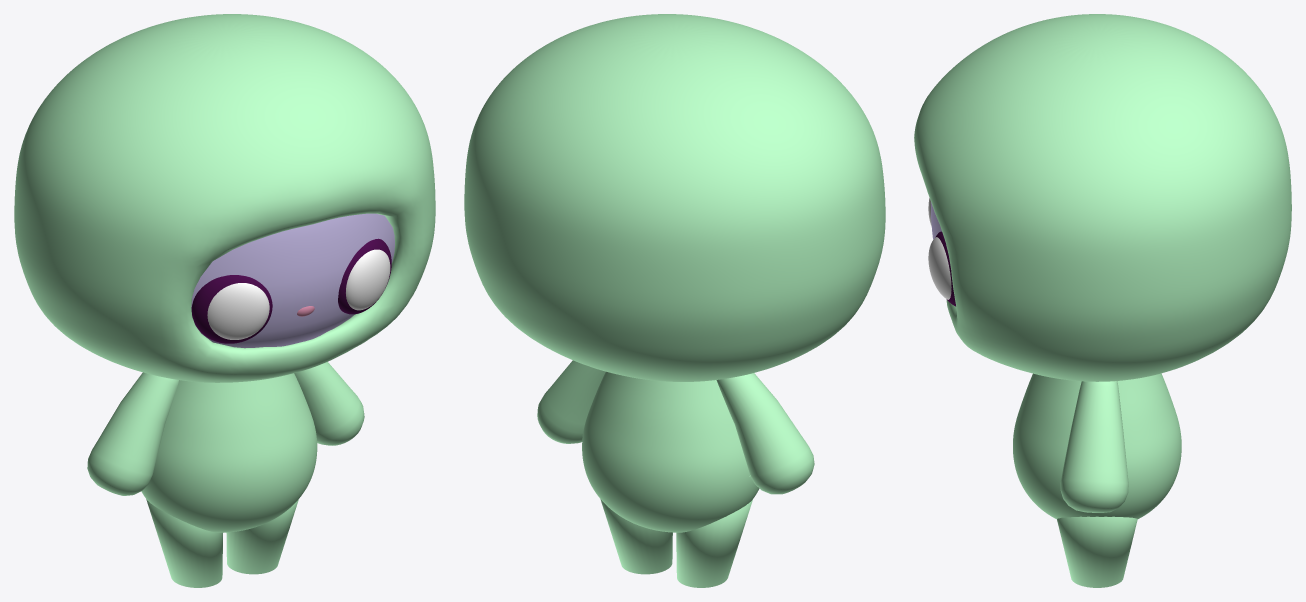
Rendered from pety.glb.
The picture shows the model from 3 angles, left to right: view 1: azimuth 30°, elevation 25°; view 2: azimuth 150°, elevation 25°; view 3: azimuth 270°, elevation 25°; orthographic projection.
Visible parts, largest first — view 1: back up hatt #0, body, head, Cylinder, legs, eyes.001, eyes; view 2: back up hatt #0, body, Cylinder, legs; view 3: back up hatt #0, body, Cylinder, legs, eyes.001.
Boxes of the visible parts, x1,y1,x2,y2 form: back up hatt #0: [14, 14, 435, 382]; body: [141, 373, 317, 532]; head: [191, 213, 394, 348]; Cylinder: [87, 361, 364, 495]; legs: [146, 499, 298, 587]; eyes.001: [207, 249, 390, 339]; eyes: [191, 238, 391, 343]; back up hatt #0: [464, 14, 885, 381]; body: [582, 371, 759, 532]; Cylinder: [537, 360, 814, 494]; legs: [600, 475, 752, 587]; back up hatt #0: [914, 14, 1291, 381]; body: [1013, 373, 1181, 519]; Cylinder: [1060, 381, 1128, 512]; legs: [1057, 516, 1137, 587]; eyes.001: [928, 198, 951, 299].
Bounding box in the file's own units: 1.39 × 1.9 × 1.24.
